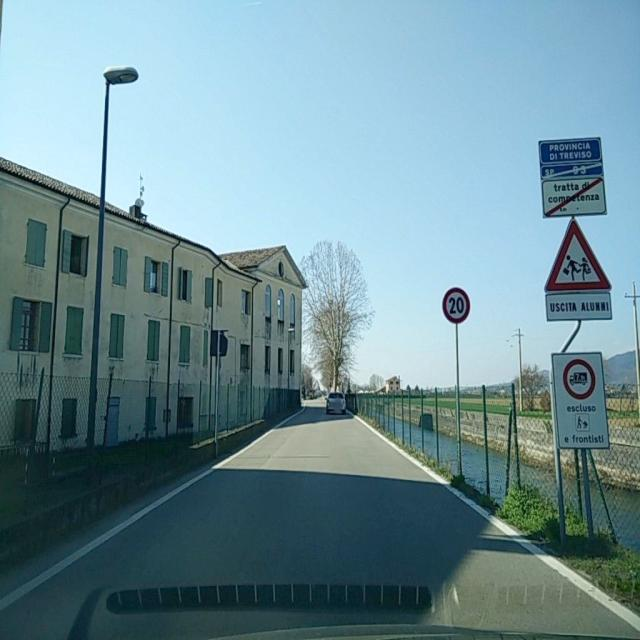car: (325, 391, 347, 414)
